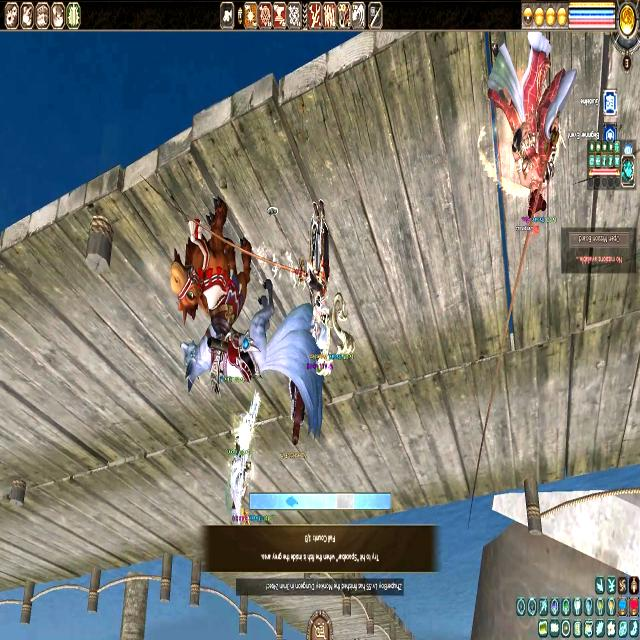fishes: (287, 496, 299, 508)
